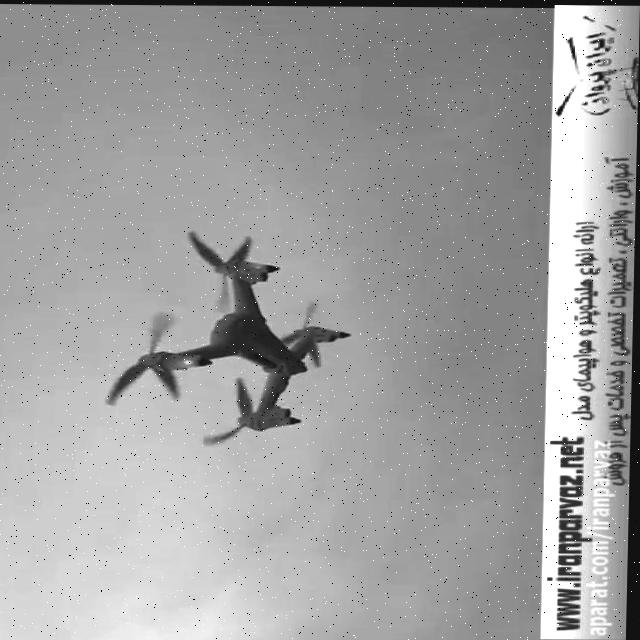drone: (92, 223, 357, 452)
